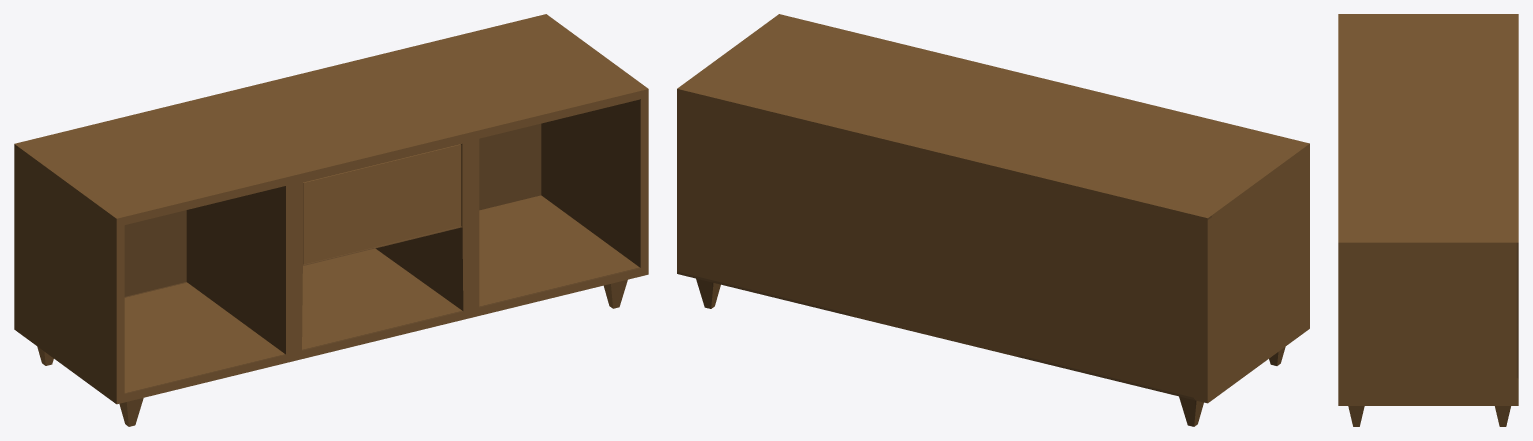
The model's file is Mueble tocadiscos.fbx.
3 views of the same model, side by side, from view 1: azimuth 30°, elevation 25°; view 2: azimuth 150°, elevation 25°; view 3: azimuth 270°, elevation 25° (orthographic). The views are drawn at different scales.
Visible parts, largest first — view 1: Mueble discos, Cajon discos; view 2: Mueble discos; view 3: Mueble discos.
Boxes of the visible parts, left/top/right/bottom form: Mueble discos: left=14, top=14, right=648, bottom=426; Cajon discos: left=303, top=144, right=461, bottom=264; Mueble discos: left=677, top=14, right=1309, bottom=426; Mueble discos: left=1338, top=14, right=1518, bottom=426.
Size of the model in its own units: 187 by 73.75 by 62.39.
